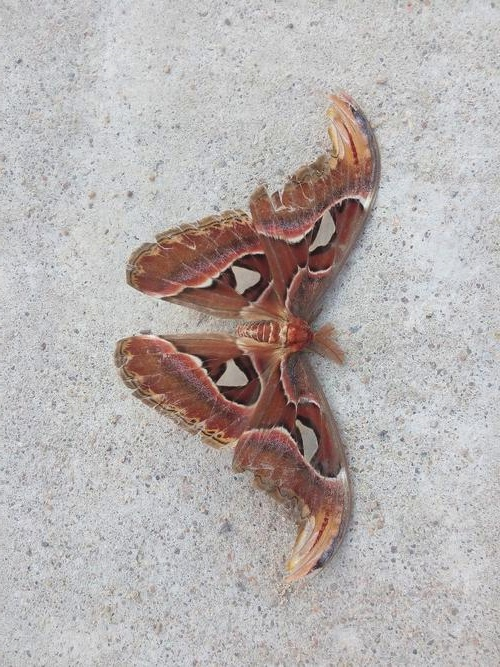Stink_Bug: (124, 156, 354, 483)
